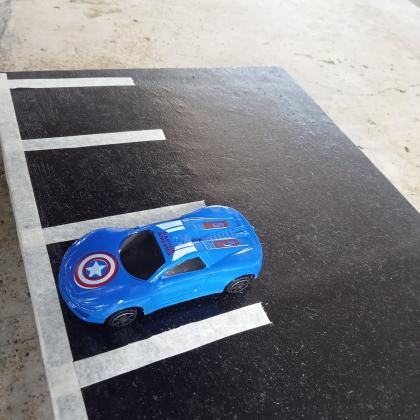Car: (57, 205, 262, 326)
